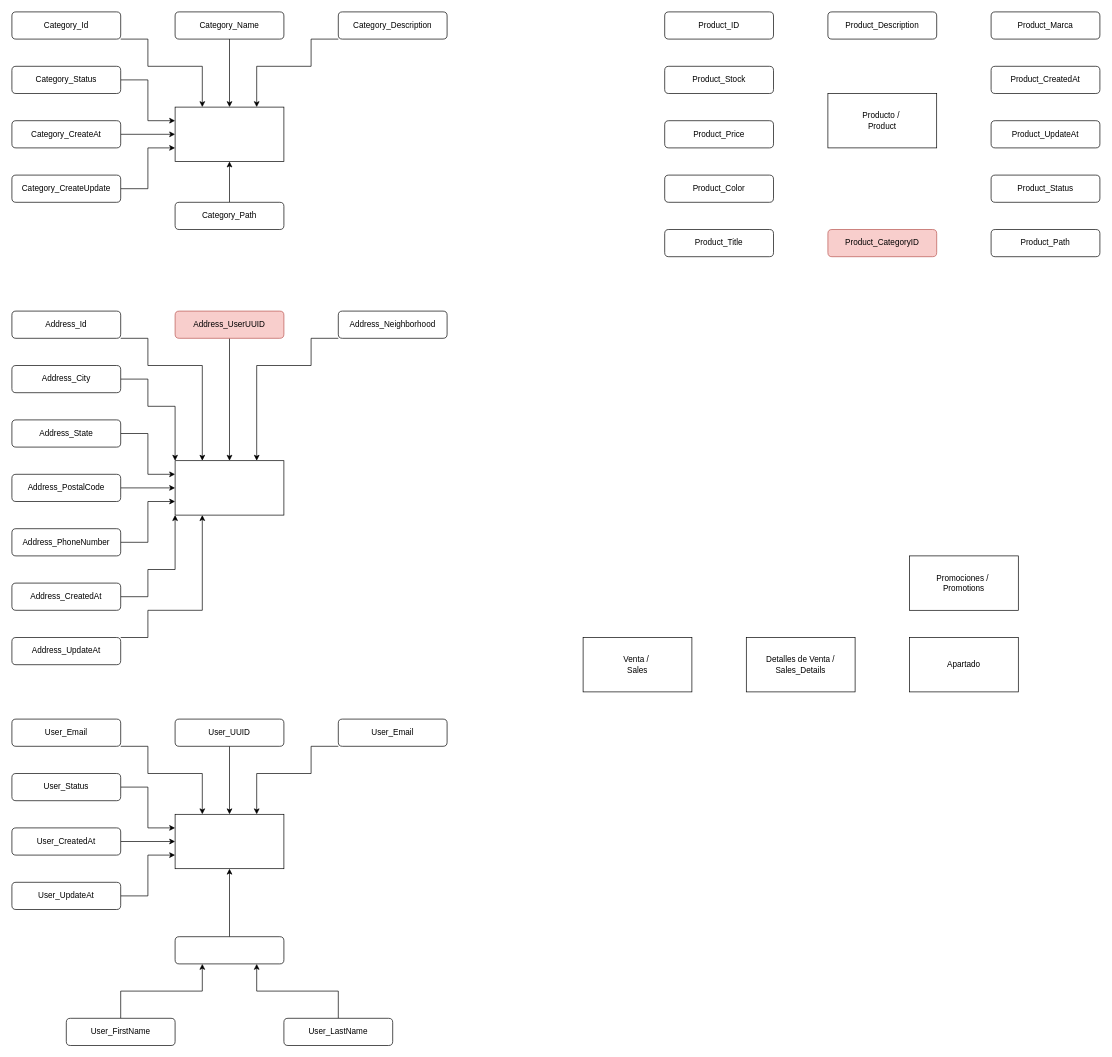
Image size: 1112x1057. Some labels were removed from this diagram. The shapes that lost their labels are listed below. From the top down, each one's box as (x1, y1, x2, y2) in pixels, then its label:
(174, 106, 284, 162): Categoría / Category
(174, 460, 284, 515): Ubicación / Add ress
(174, 814, 284, 869): Usuarios / Users
(174, 936, 284, 964): User_Name
